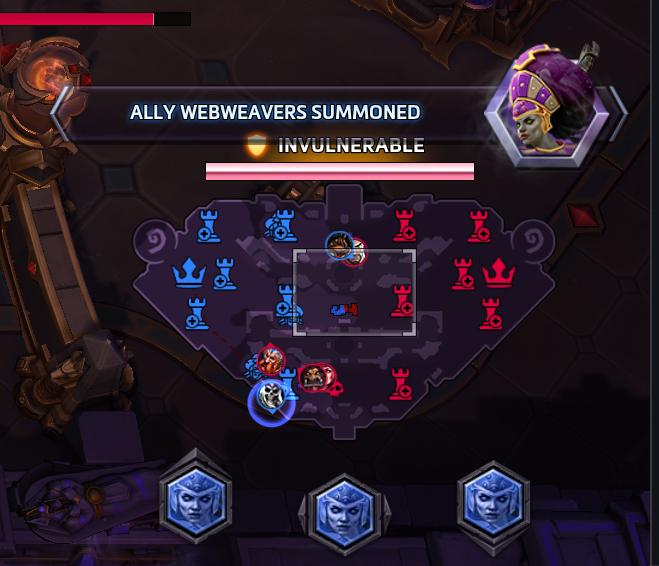blue nexus: (170, 255, 207, 287)
blue player: (253, 380, 288, 414), (325, 230, 355, 260)
blue tower: (274, 282, 303, 325), (263, 207, 298, 242), (184, 295, 210, 330), (196, 208, 222, 243), (211, 255, 237, 290)
red nexus: (481, 256, 516, 288)
red player: (253, 343, 285, 377), (307, 361, 338, 393), (297, 362, 328, 393), (340, 236, 367, 266)
red tower: (466, 208, 491, 243), (391, 207, 416, 242), (478, 296, 503, 330), (450, 256, 475, 290), (390, 283, 414, 317), (388, 366, 412, 400)
